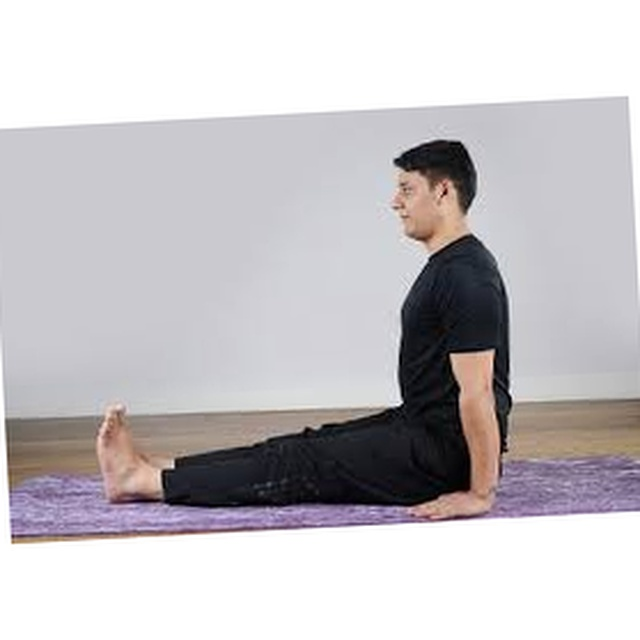Staff_Pose: (95, 139, 514, 523)
